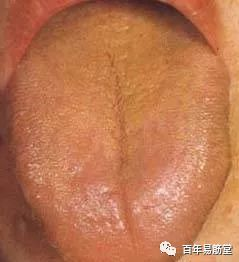huangtaishe: (6, 1, 233, 262)
